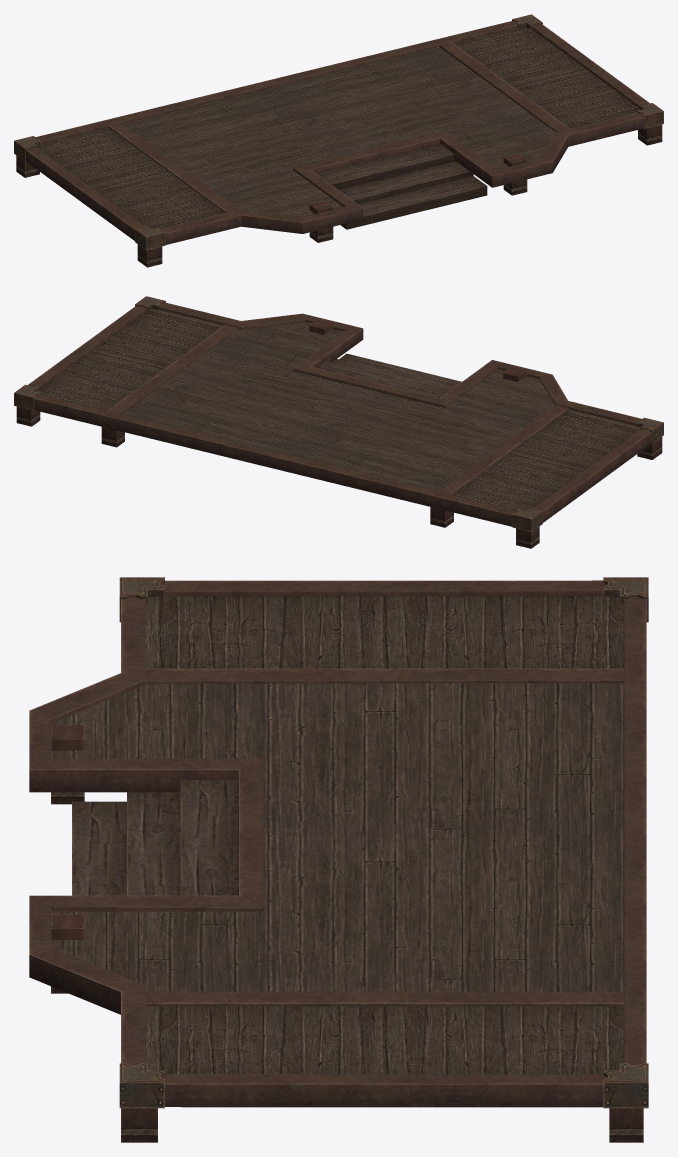
The model's file is DJT.FBX.
3 views of the same model, one above another, from view 1: azimuth 30°, elevation 25°; view 2: azimuth 150°, elevation 25°; view 3: azimuth 270°, elevation 25° (orthographic). The views are drawn at different scales.
Parts seen in each view (by area): view 1: DJT; view 2: DJT; view 3: DJT.
Boxes of the visible parts, x1,y1,x2,y2 form: DJT: (14, 14, 663, 267); DJT: (14, 296, 663, 548); DJT: (29, 577, 648, 1142).
Bounding box in the file's own units: 1772 × 918 × 106.
